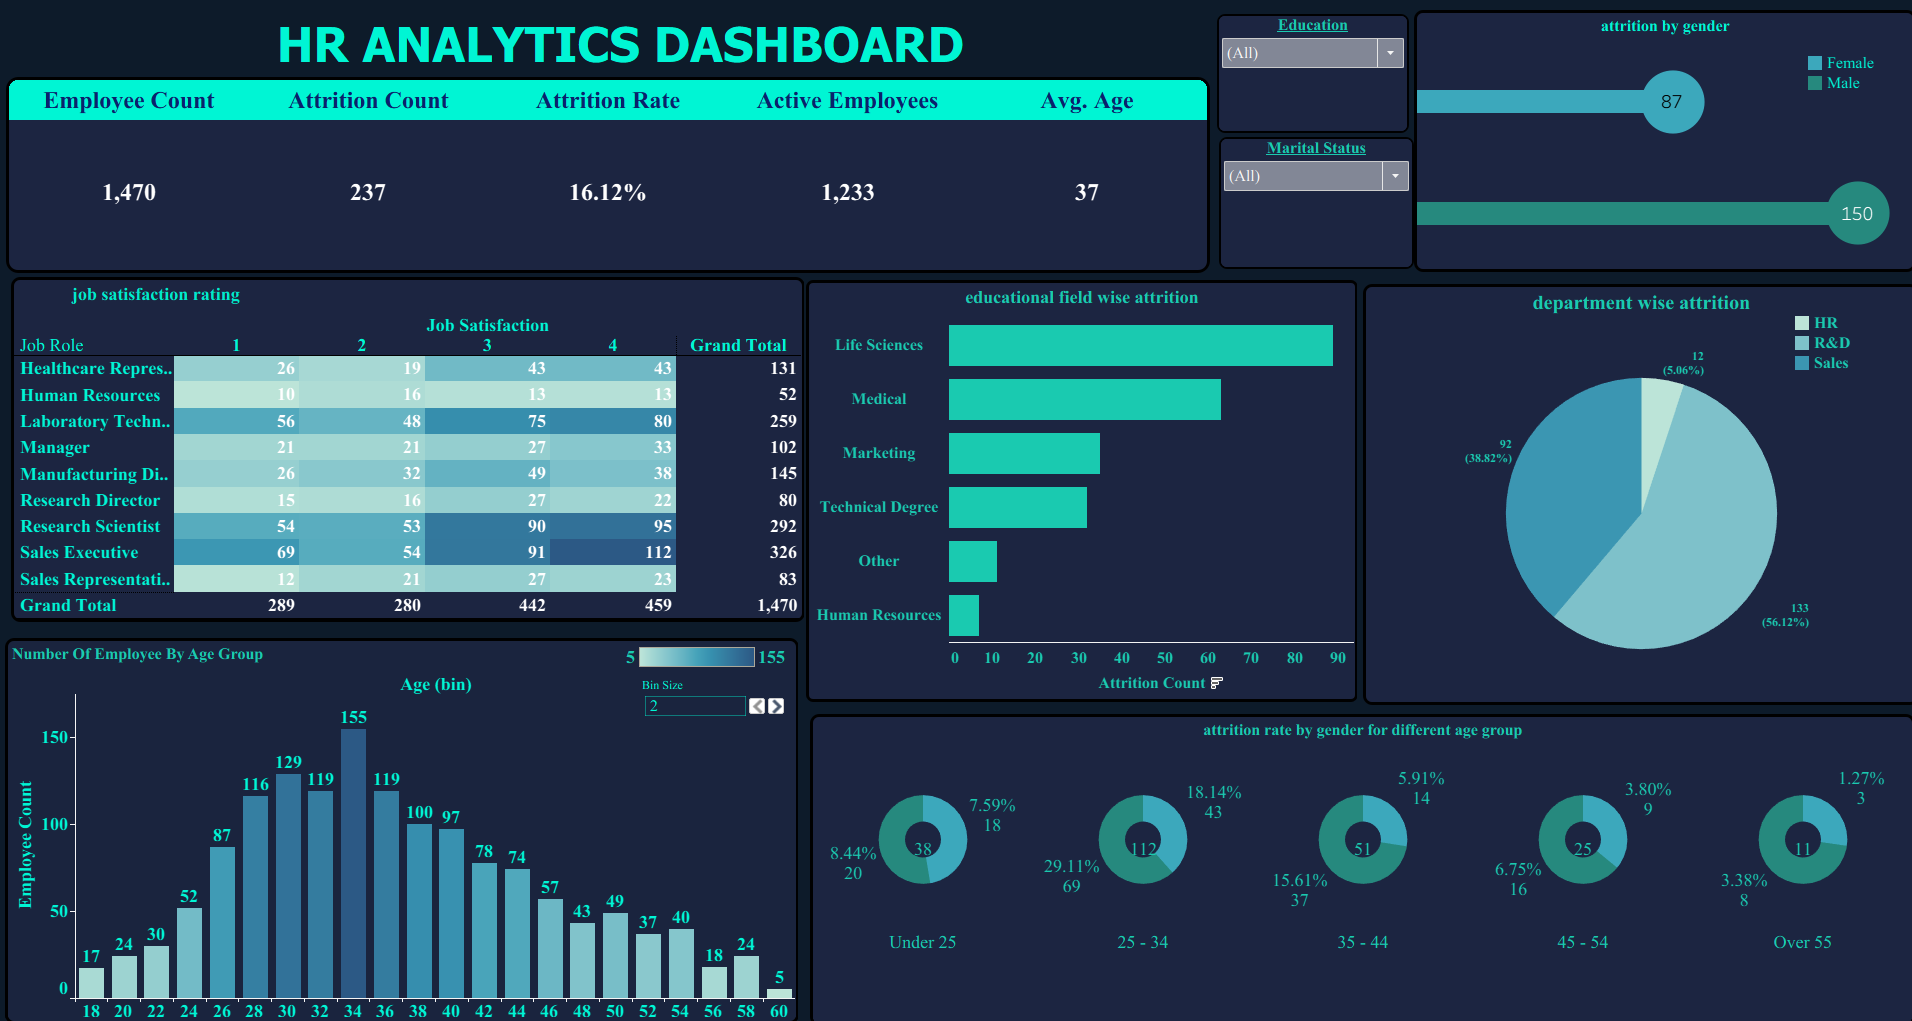

This screenshot's page, from the dashboard's own definition file:
{"tool":"tableau","page":{"name":"Dashboard 1","canvas":[1000,1000],"units":"permille","ordinal":0},"visuals":[{"type":"worksheet","title":"attrition by gender","mark":"Automatic","rows":["Gender"],"cols":["Calculation_0602543866232832","Calculation_0602543866232832"],"box":[736.3,9.9,261.9,253.1]},{"type":"filter","title":"KPI","param":"[federated.0hx8wzo17m8ain1dviqoa0tsbpos].[none:Education:nk]","box":[634,13.7,99.8,115.4]},{"type":"legend","title":"attrition by gender","param":"[federated.0hx8wzo17m8ain1dviqoa0tsbpos].[none:Gender:nk]","box":[940.1,50.9,63,76.9]},{"type":"worksheet","title":"KPI","mark":"Automatic","box":[3.1,74.4,627.2,189.8]},{"type":"filter","title":"KPI","param":"[federated.0hx8wzo17m8ain1dviqoa0tsbpos].[none:Marital Status:nk]","box":[634.7,132.8,101.6,127.8]},{"type":"worksheet","title":"job satisfaction rating","mark":"Square","rows":["Job Role"],"cols":["Job Satisfaction"],"box":[5.6,268,413.3,333.8]},{"type":"worksheet","title":"educational field wise attrition","mark":"Bar","rows":["Education Field"],"cols":["Calculation_0602543866232832"],"box":[419.6,270.5,287.4,408.2]},{"type":"worksheet","title":"department wise attrition","mark":"Pie","box":[710.1,274.2,289.9,406.9]},{"type":"legend","title":"department wise attrition","param":"[federated.0hx8wzo17m8ain1dviqoa0tsbpos].[none:Department:nk]","box":[933.3,302.7,63,106.7]},{"type":"worksheet","title":"Number Of Employee By Age Group","mark":"Automatic","rows":["Employee Count"],"cols":["Age (bin)"],"box":[2.5,616.6,413.3,373.4]},{"type":"legend","title":"Number Of Employee By Age Group","param":"[federated.0hx8wzo17m8ain1dviqoa0tsbpos].[sum:Employee Count:qk]","box":[324.2,621.6,87.3,45.9]},{"type":"parameter","param":"[Parameters].[Parameter 0602543889653763]","box":[334.2,655.1,75.4,59.6]},{"type":"worksheet","title":"attrition rate by gender for different age group","mark":"Pie","rows":["Calculation_0602544568418309","Calculation_0602544568418309"],"cols":["CF_age band"],"box":[422.1,689.8,576.1,302.7]}]}

Visuals, with their boxes on the dashboard's canvas, which has no fixed pixel size, in thousandths of its width and height (x1, y1, x2, y2). These are canvas units, not pixel positions in the 1912x1021 screenshot, which may show the page scaled, cropped or inside an application window:
"attrition by gender" worksheet: l=736, t=10, r=998, b=263
"KPI" filter: l=634, t=14, r=734, b=129
"attrition by gender" legend: l=940, t=51, r=1003, b=128
"KPI" worksheet: l=3, t=74, r=630, b=264
"KPI" filter: l=635, t=133, r=736, b=261
"job satisfaction rating" worksheet (Square marks): l=6, t=268, r=419, b=602
"educational field wise attrition" worksheet (Bar marks): l=420, t=270, r=707, b=679
"department wise attrition" worksheet (Pie marks): l=710, t=274, r=1000, b=681
"department wise attrition" legend: l=933, t=303, r=996, b=409
"Number Of Employee By Age Group" worksheet: l=2, t=617, r=416, b=990
"Number Of Employee By Age Group" legend: l=324, t=622, r=412, b=668
parameter: l=334, t=655, r=410, b=715
"attrition rate by gender for different age group" worksheet (Pie marks): l=422, t=690, r=998, b=992
